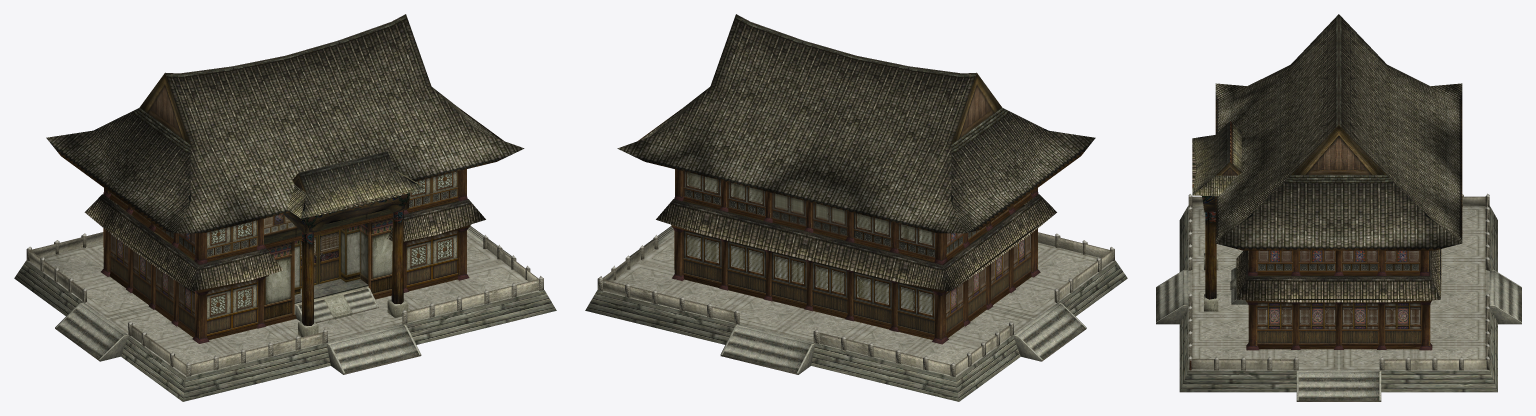
Rendered from b1-010-bank_lod_01.fbx.
The picture shows the model from 3 angles, left to right: view 1: azimuth 30°, elevation 25°; view 2: azimuth 150°, elevation 25°; view 3: azimuth 270°, elevation 25°; orthographic projection. The views are drawn at different scales.
Parts seen in each view (by area): view 1: b1-010-bank-01, b1-010-bank-03, b1-010-bank-02, b1-010-bank-04; view 2: b1-010-bank-01, b1-010-bank-03, b1-010-bank-02, b1-010-bank-04; view 3: b1-010-bank-01, b1-010-bank-03, b1-010-bank-02, b1-010-bank-04.
Part boxes in pixels (x1,y1,x2,y2): b1-010-bank-01: (46,14,524,343); b1-010-bank-03: (14,151,556,401); b1-010-bank-02: (26,171,543,376); b1-010-bank-04: (84,189,485,321); b1-010-bank-01: (617,14,1095,344); b1-010-bank-03: (585,195,1127,401); b1-010-bank-02: (597,171,1114,377); b1-010-bank-04: (656,194,1056,291); b1-010-bank-01: (1189,14,1462,370); b1-010-bank-03: (1156,121,1521,401); b1-010-bank-02: (1188,193,1489,370); b1-010-bank-04: (1192,139,1441,302).
Bounding box in the file's own units: 24.99 × 14.43 × 20.19.
